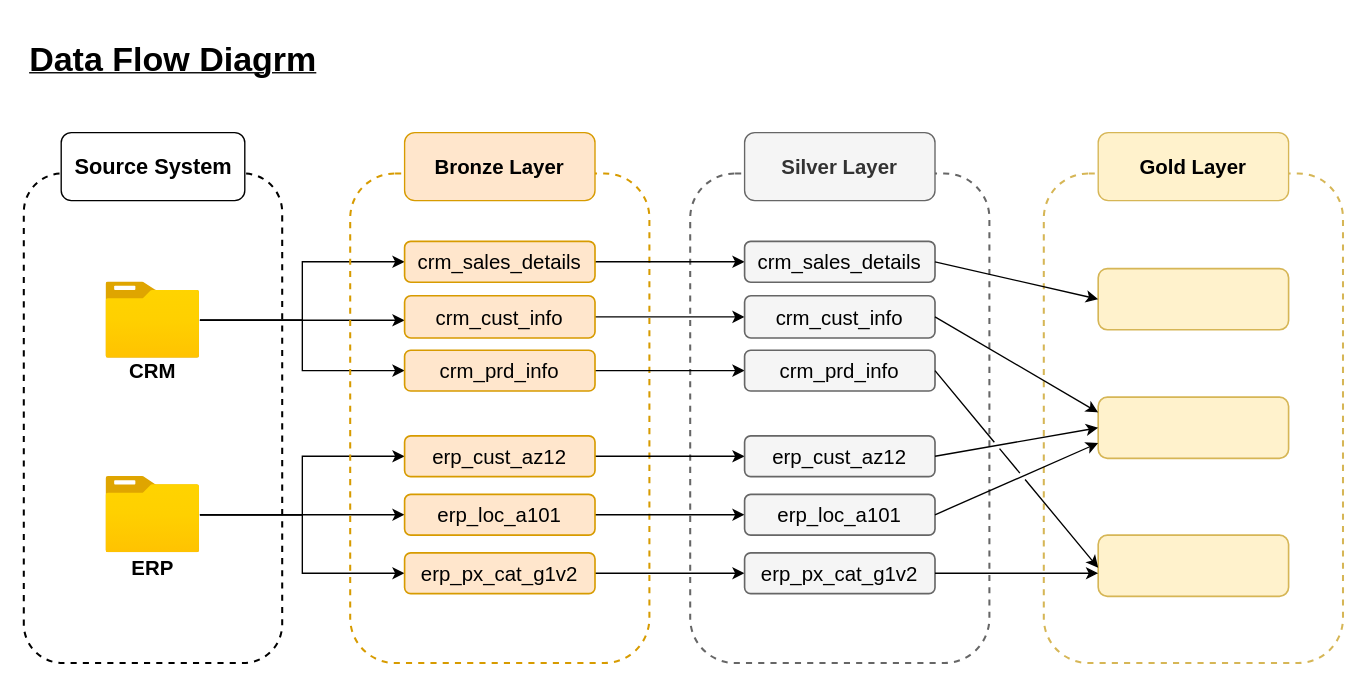
This 1368x687 diagram has some shape labels left out. Here are the shapes that lost their labels. From the top down, the box of each, then its label:
(1097, 267, 1289, 330): fact_sales
(1097, 396, 1289, 458): dim_customers
(1097, 534, 1289, 596): dim_products
